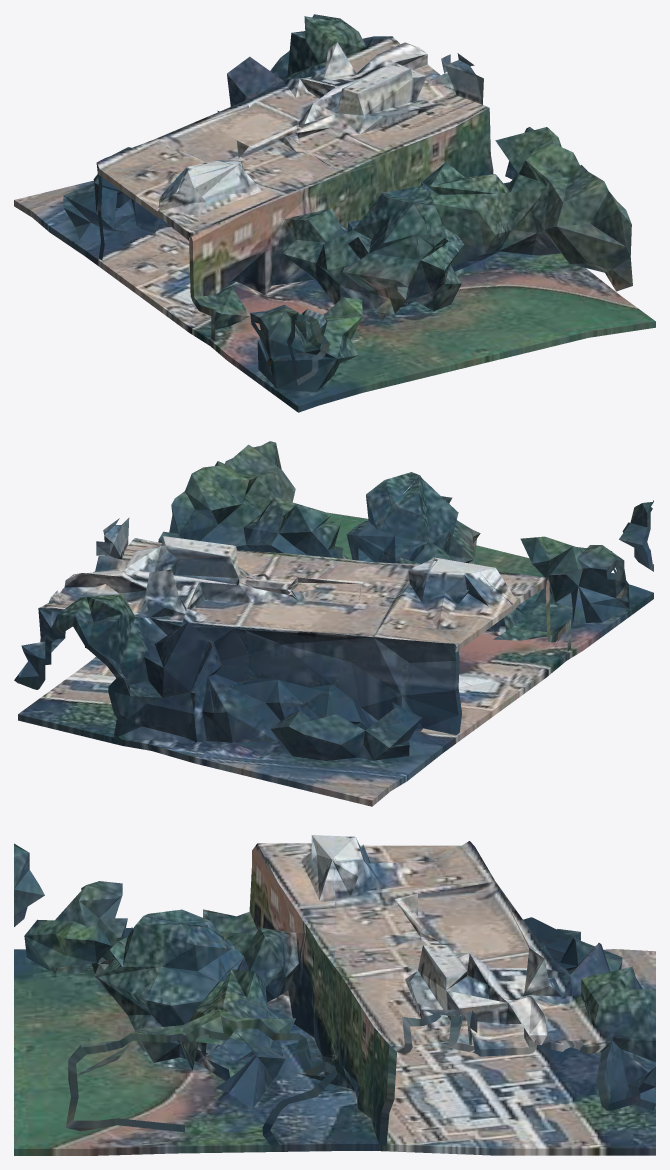
Rendered from chunk_1_-8.glb.
3 renders of one model, top to bottom at view 1: azimuth 30°, elevation 25°; view 2: azimuth 150°, elevation 25°; view 3: azimuth 270°, elevation 25°, orthographic. The views are drawn at different scales.
Parts seen in each view (by area): view 1: hero-chunk; view 2: hero-chunk; view 3: hero-chunk.
Part boxes in pixels (bbox=[...]): hero-chunk: bbox=[14, 14, 655, 412]; hero-chunk: bbox=[14, 441, 653, 806]; hero-chunk: bbox=[14, 835, 655, 1155].
Size of the model in its own units: 56.34 by 20.14 by 76.32.
Materials: 2 (2 with a texture image).
